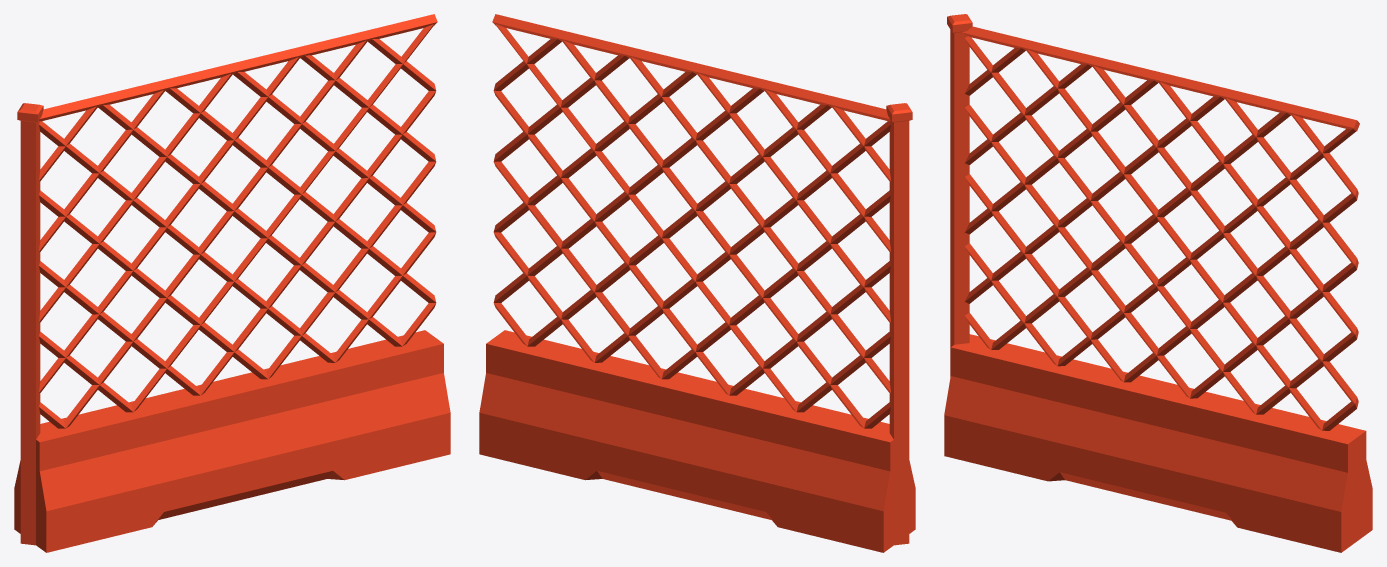
Rendered from SM_Fence_Construction_Low_2m_City.fbx.
3 renders of one model, left to right at view 1: azimuth 30°, elevation 25°; view 2: azimuth 150°, elevation 25°; view 3: azimuth 330°, elevation 25°, orthographic.
Parts seen in each view (by area): view 1: SM_Fence_Construction_Low_2m_City; view 2: SM_Fence_Construction_Low_2m_City; view 3: SM_Fence_Construction_Low_2m_City.
Boxes of the visible parts, x1=… form: SM_Fence_Construction_Low_2m_City: x1=14, y1=14, x2=450, y2=552; SM_Fence_Construction_Low_2m_City: x1=479, y1=14, x2=915, y2=552; SM_Fence_Construction_Low_2m_City: x1=944, y1=14, x2=1372, y2=552.
Bounding box in the file's own units: 2.06 × 2.05 × 0.2748.
